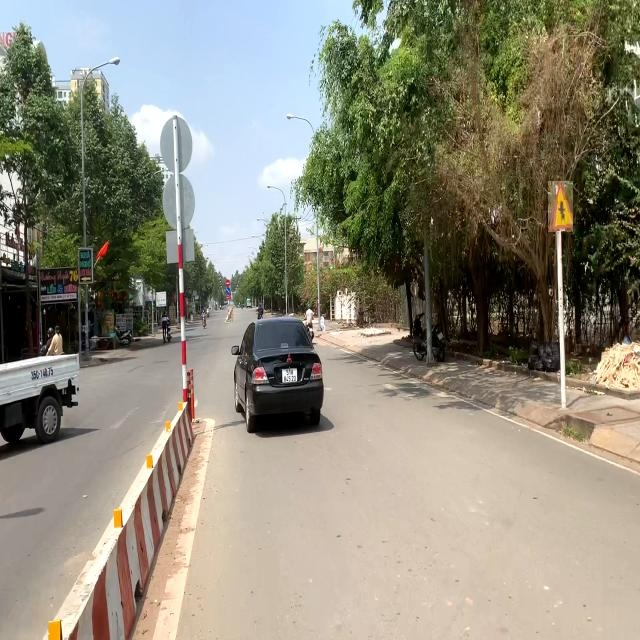bien_cam: (548, 181, 573, 232)
